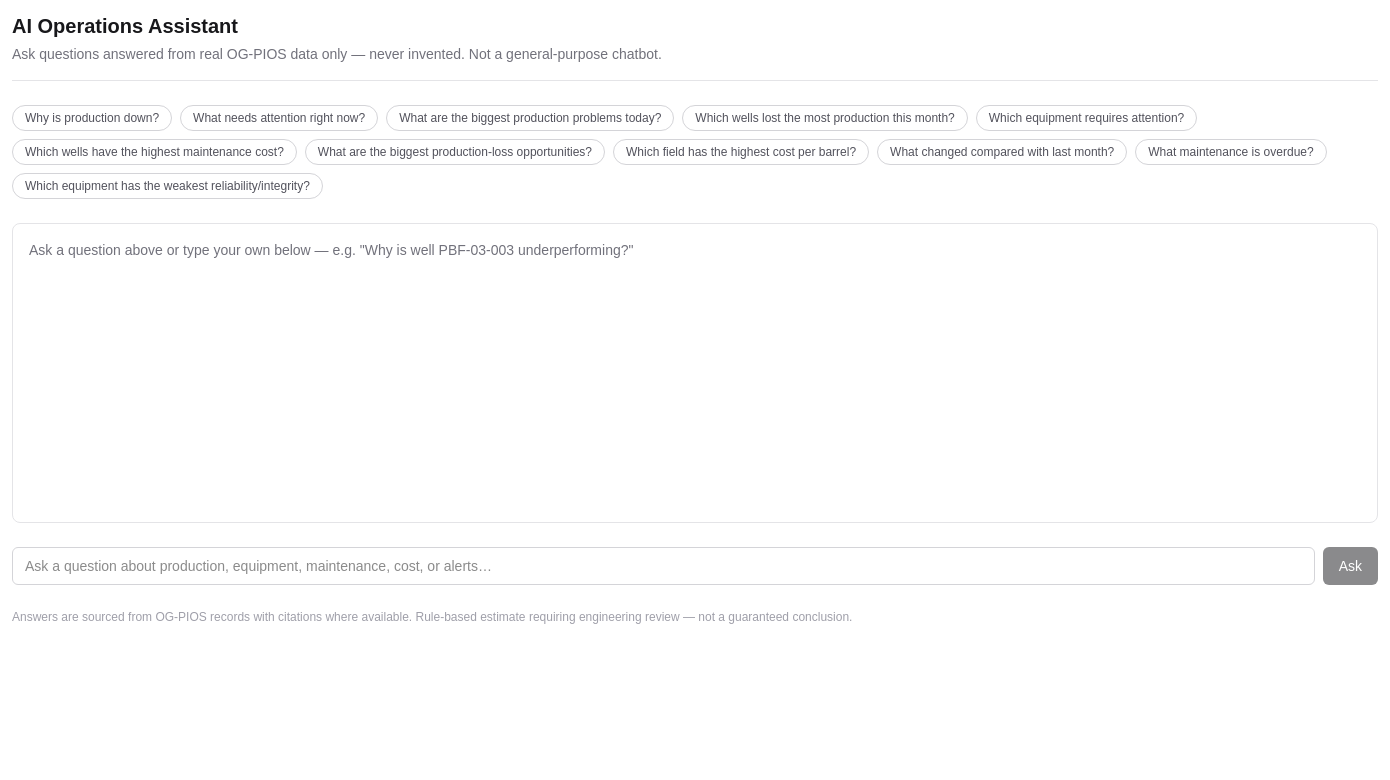
Scenario: AiOperationsAssistantPage › submits a typed question via the input form
Replace the text in the field with placeholder "Ask a question" with "Why is well X underperforming?": point(663, 566) [12,547,1315,585]
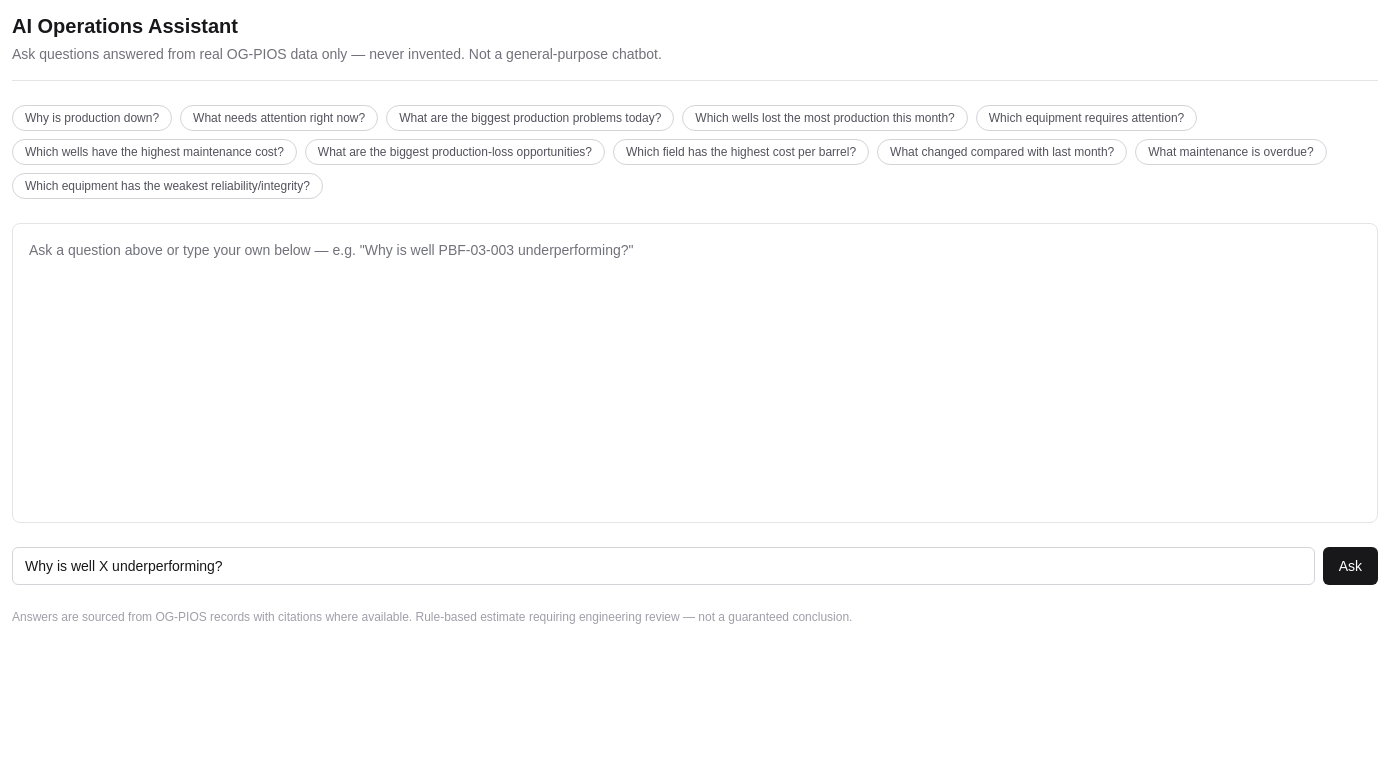
Click the button "Ask": point(1350, 566) [1323,547,1378,585]
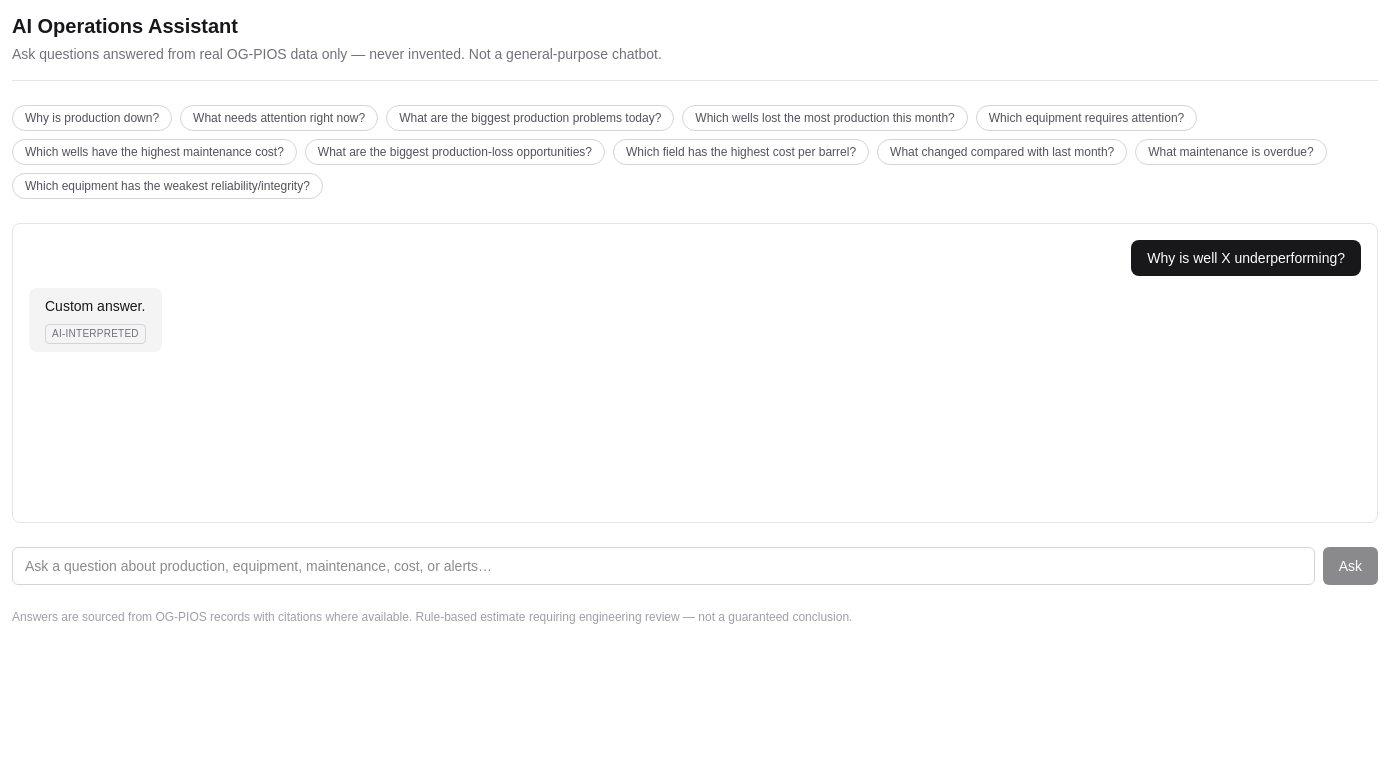
Expected: the text "Custom answer." is shown, [45,296,146,316]
Expected: the text "AI-interpreted" is shown, [45,324,146,344]
